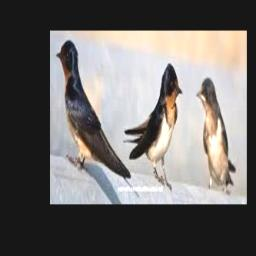Swallow: (56, 40, 131, 179), (124, 64, 183, 190), (197, 79, 236, 188)
